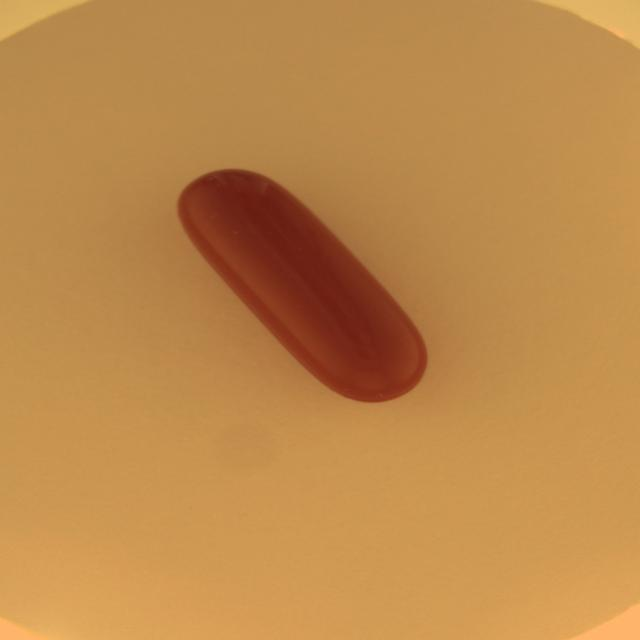Oval: (176, 165, 428, 406)
